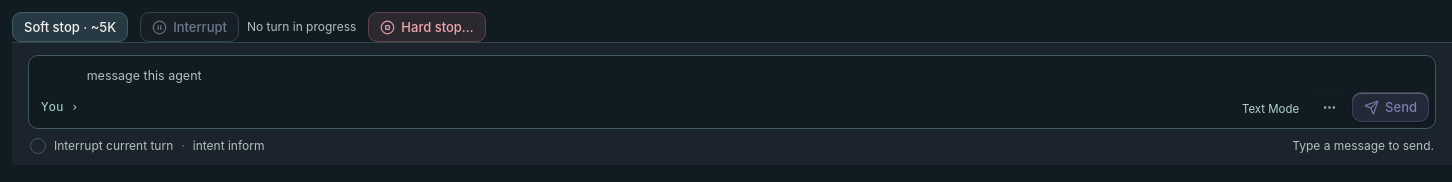
Scenario: requests a bounded wrap-up and shows the pending state
Click the button "Soft stop · ~5K".
click(70, 27)  # box [12, 12, 128, 42]
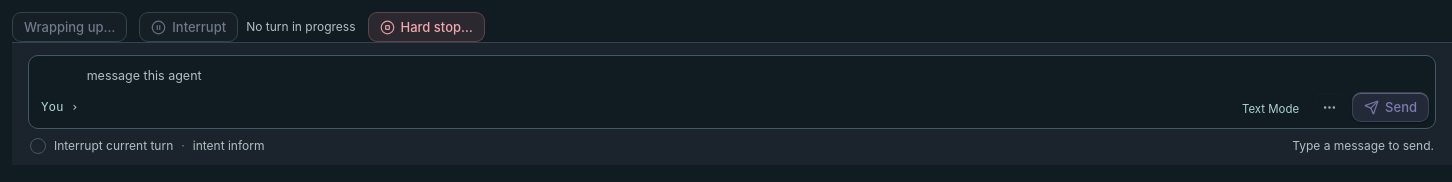
Expected: the button "Wrapping up…" is disabled, [12, 12, 127, 42]
